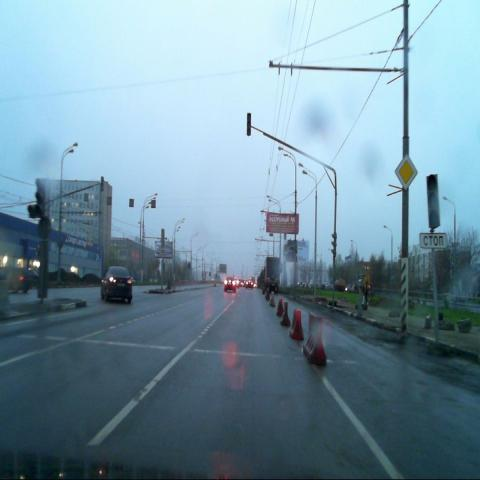6_16: (419, 233, 447, 248)
